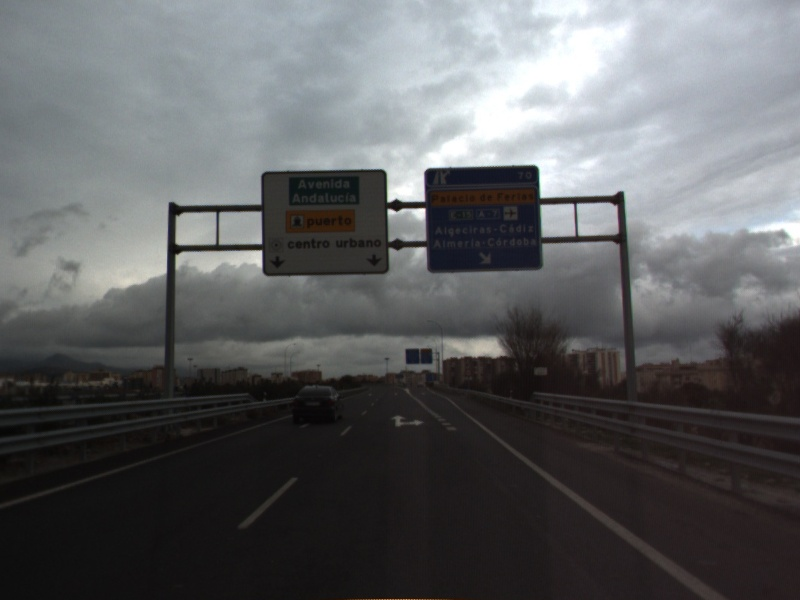STRAIGHT_RIGHT: (388, 413, 427, 429)
